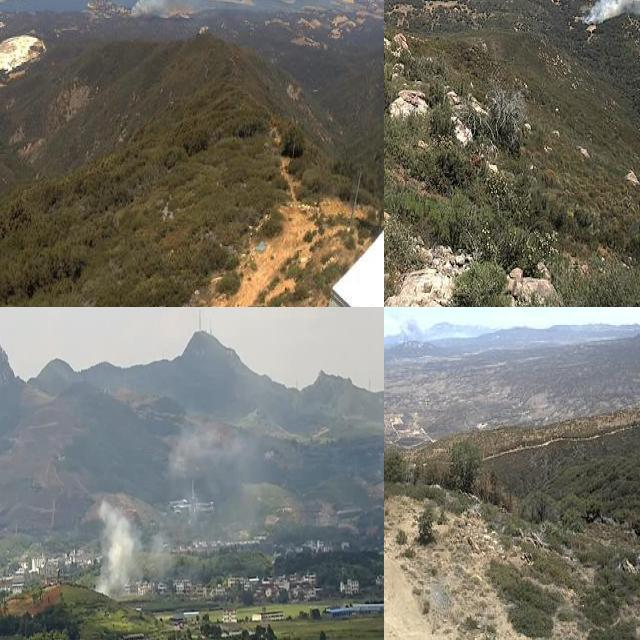smoke: (168, 426, 257, 478), (94, 500, 136, 599), (384, 307, 435, 351), (124, 0, 208, 22), (147, 533, 175, 574)
